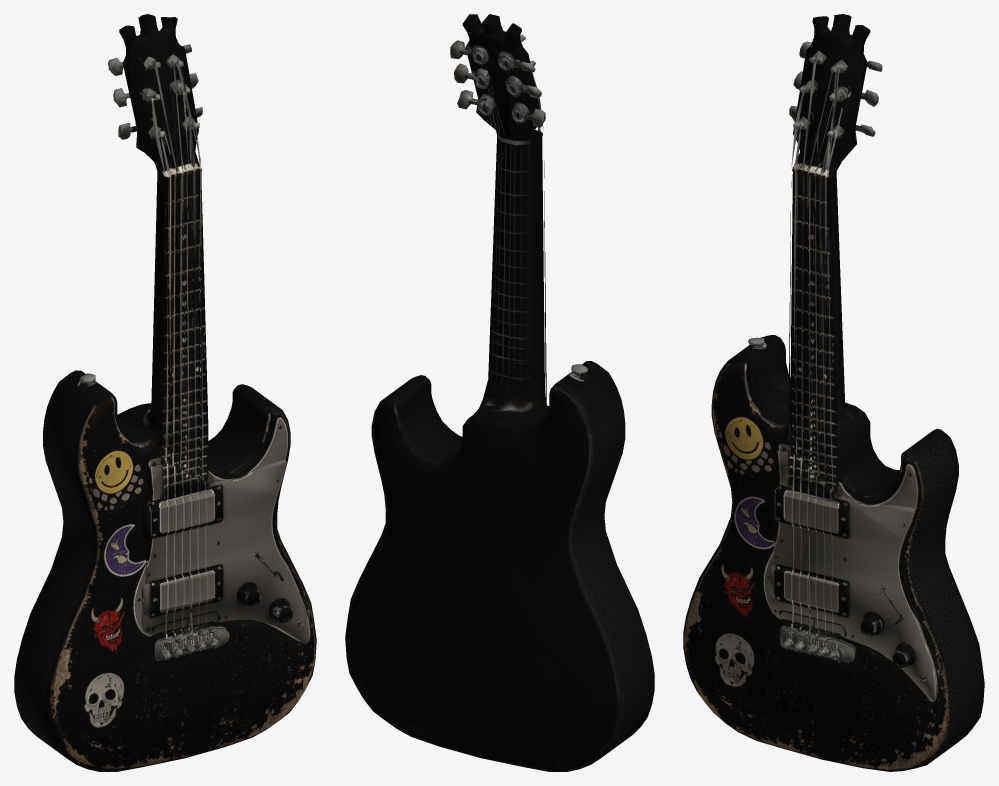
Rendered from electric-guitar.glb.
3 views of the same model, side by side, from view 1: azimuth 30°, elevation 25°; view 2: azimuth 150°, elevation 25°; view 3: azimuth 330°, elevation 25° (orthographic). The views are drawn at different scales.
Visible parts, largest first — view 1: player_electric_guitar; view 2: player_electric_guitar; view 3: player_electric_guitar.
Boxes of the visible parts, x1=… form: player_electric_guitar: x1=14, y1=14, x2=316, y2=771; player_electric_guitar: x1=345, y1=14, x2=654, y2=771; player_electric_guitar: x1=683, y1=14, x2=984, y2=771.
Bounding box in the file's own units: 0.3887 × 0.998 × 0.1152.
Materials: 1 (1 with a texture image).
